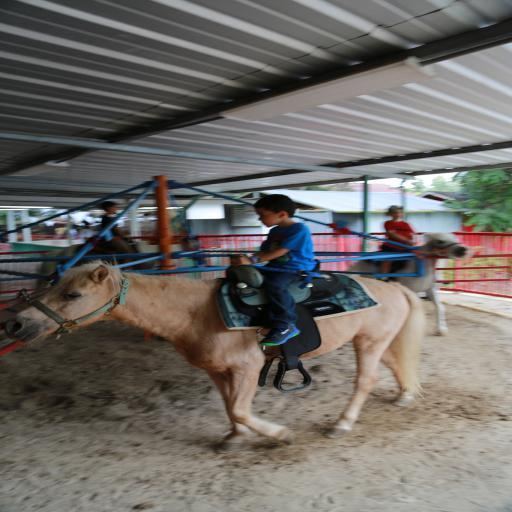horse: (4, 258, 424, 456), (343, 230, 471, 338)
